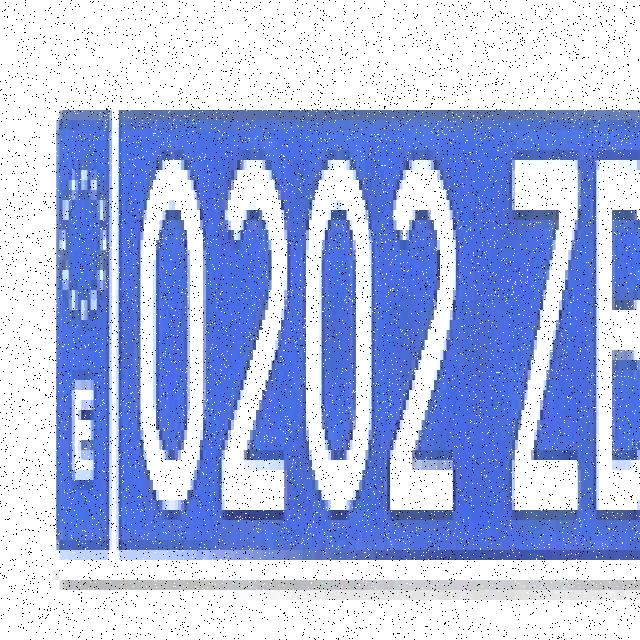licenseplate: (25, 36, 640, 625)
